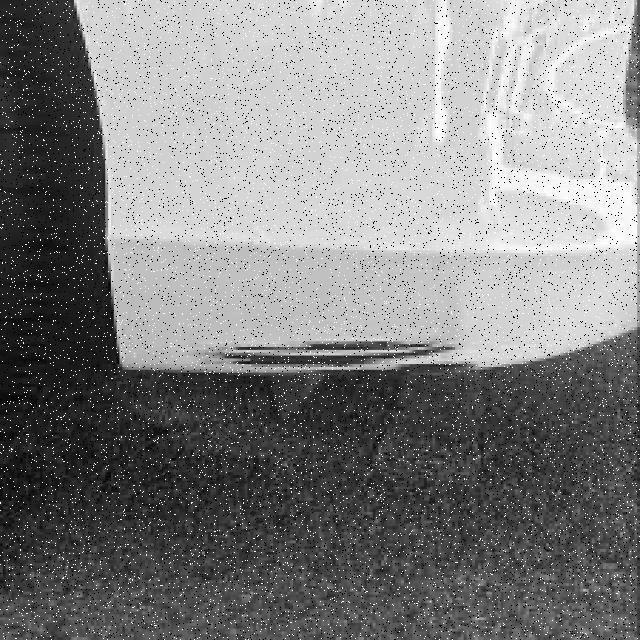front-bumper-dent: (0, 7, 636, 382)
